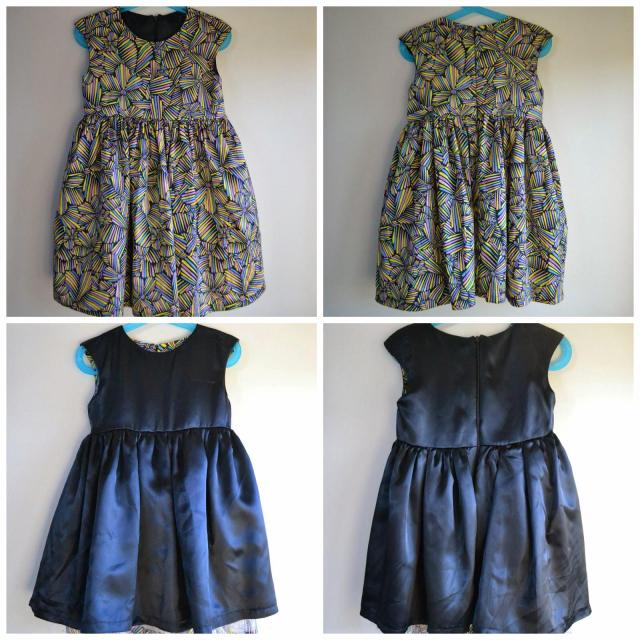Dress: (34, 324, 280, 628)
